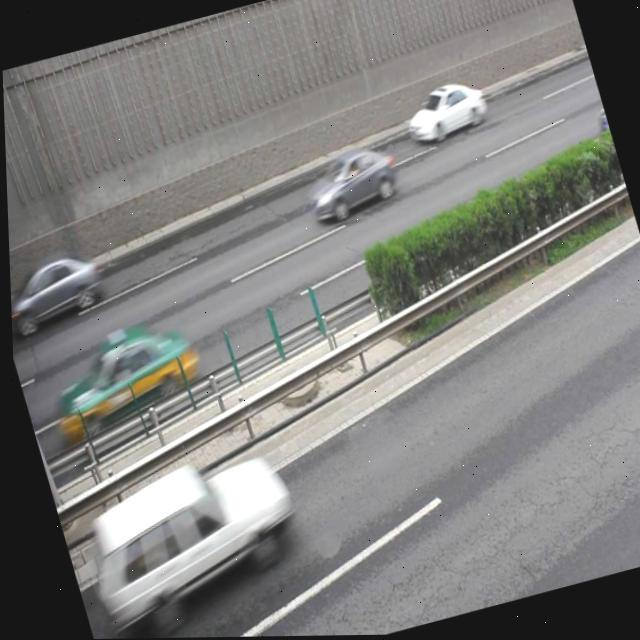car: (89, 440, 305, 629), (32, 311, 206, 440), (7, 245, 107, 335), (298, 141, 399, 226), (398, 75, 492, 151)
